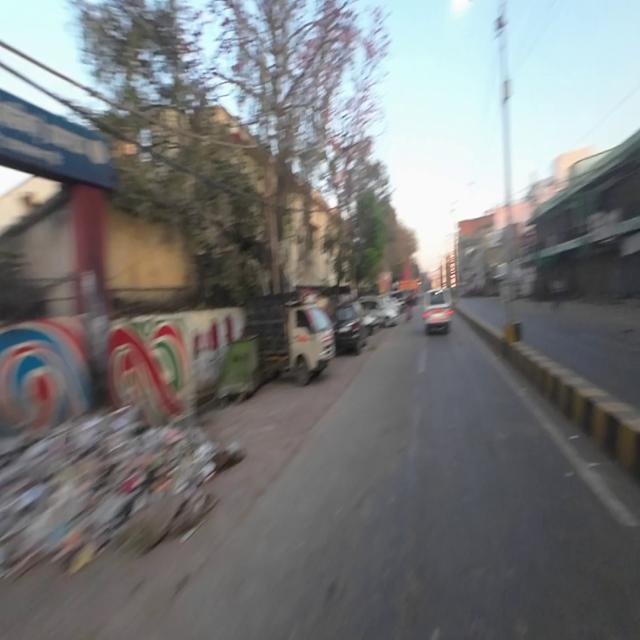Garbage: (2, 418, 214, 541)
